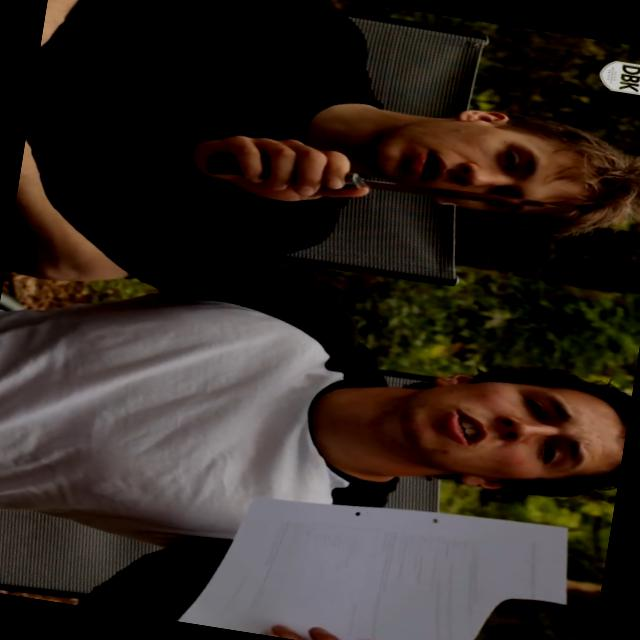knife: (252, 150, 578, 238)
